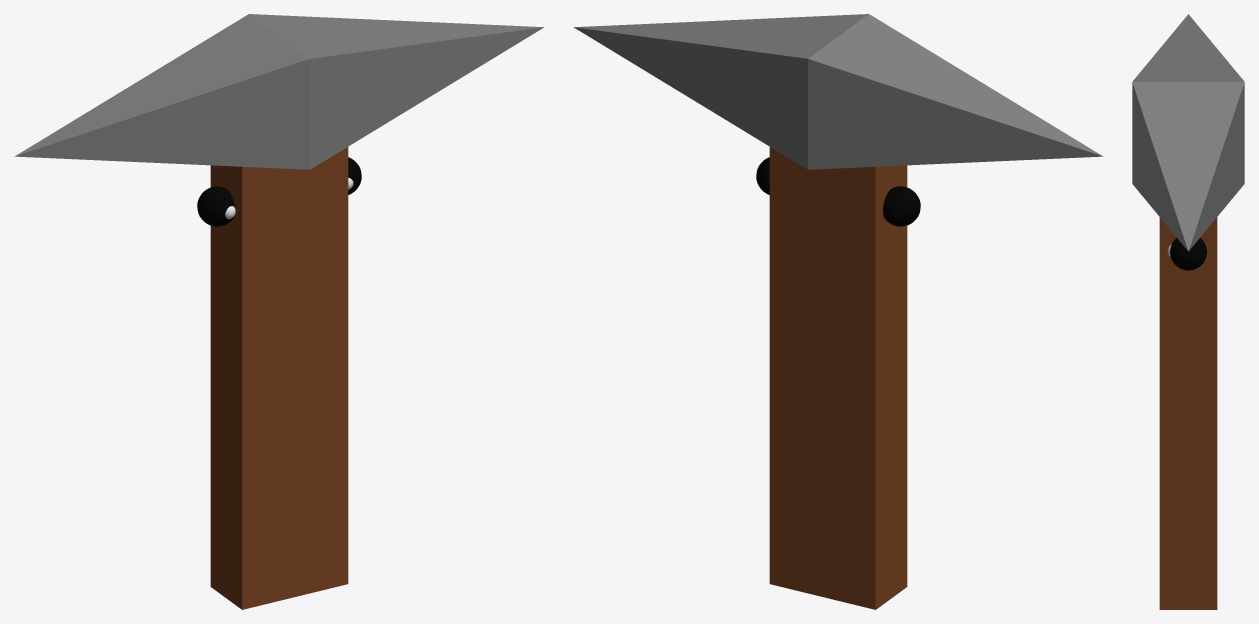
The model's file is iice.fbx.
The picture shows the model from 3 angles, left to right: view 1: azimuth 30°, elevation 25°; view 2: azimuth 150°, elevation 25°; view 3: azimuth 270°, elevation 25°; orthographic projection. The views are drawn at different scales.
Parts seen in each view (by area): view 1: Cube, Cube.001, Sphere; view 2: Cube, Cube.001, Sphere; view 3: Cube, Cube.001, Sphere.
Boxes of the visible parts, <box> form: Cube: <box>210,147,348,609</box>; Cube.001: <box>15,14,543,169</box>; Sphere: <box>197,157,361,226</box>; Cube: <box>769,147,907,609</box>; Cube.001: <box>574,14,1102,169</box>; Sphere: <box>756,157,920,226</box>; Cube: <box>1159,217,1217,609</box>; Cube.001: <box>1132,14,1244,251</box>; Sphere: <box>1170,238,1206,270</box>.
Size of the model in its own units: 150 by 148 by 30.
